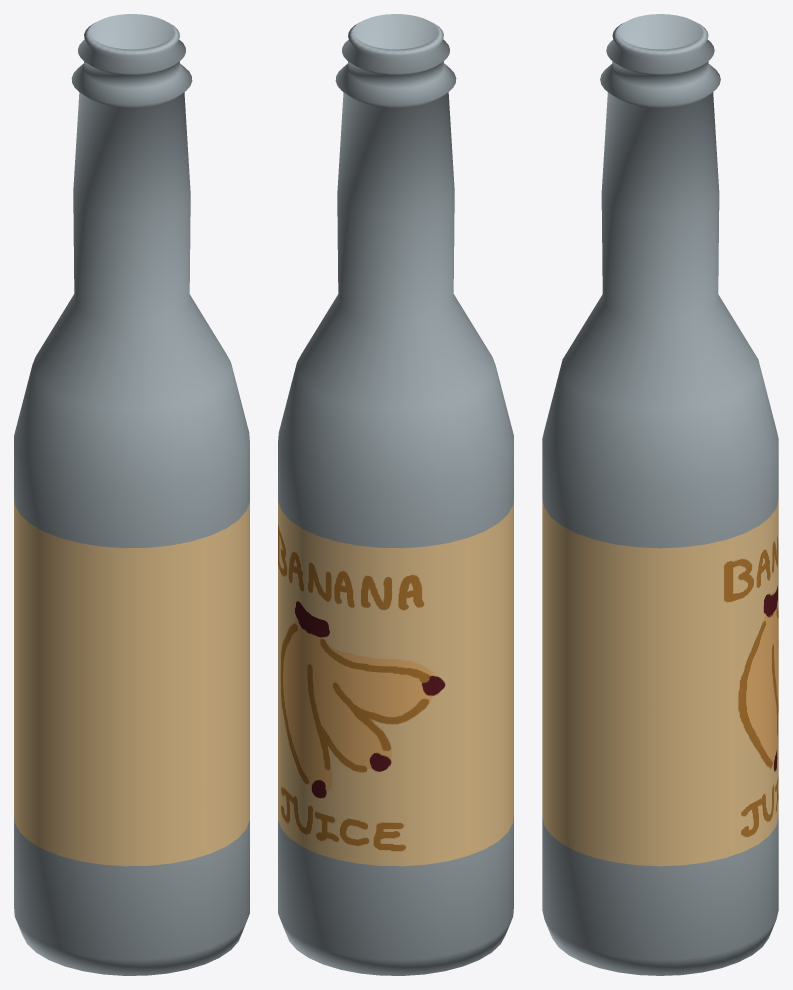
File: Banana_bottle.fbx
3 renders of one model, left to right at view 1: azimuth 30°, elevation 25°; view 2: azimuth 150°, elevation 25°; view 3: azimuth 270°, elevation 25°, orthographic.
Visible parts, largest first — view 1: Cylinder.002; view 2: Cylinder.002; view 3: Cylinder.002.
Boxes of the visible parts, bbox=[...] form: Cylinder.002: bbox=[14, 14, 249, 975]; Cylinder.002: bbox=[278, 14, 513, 975]; Cylinder.002: bbox=[542, 14, 778, 975].
Size of the model in its own units: 9.8 by 41.04 by 9.8.
